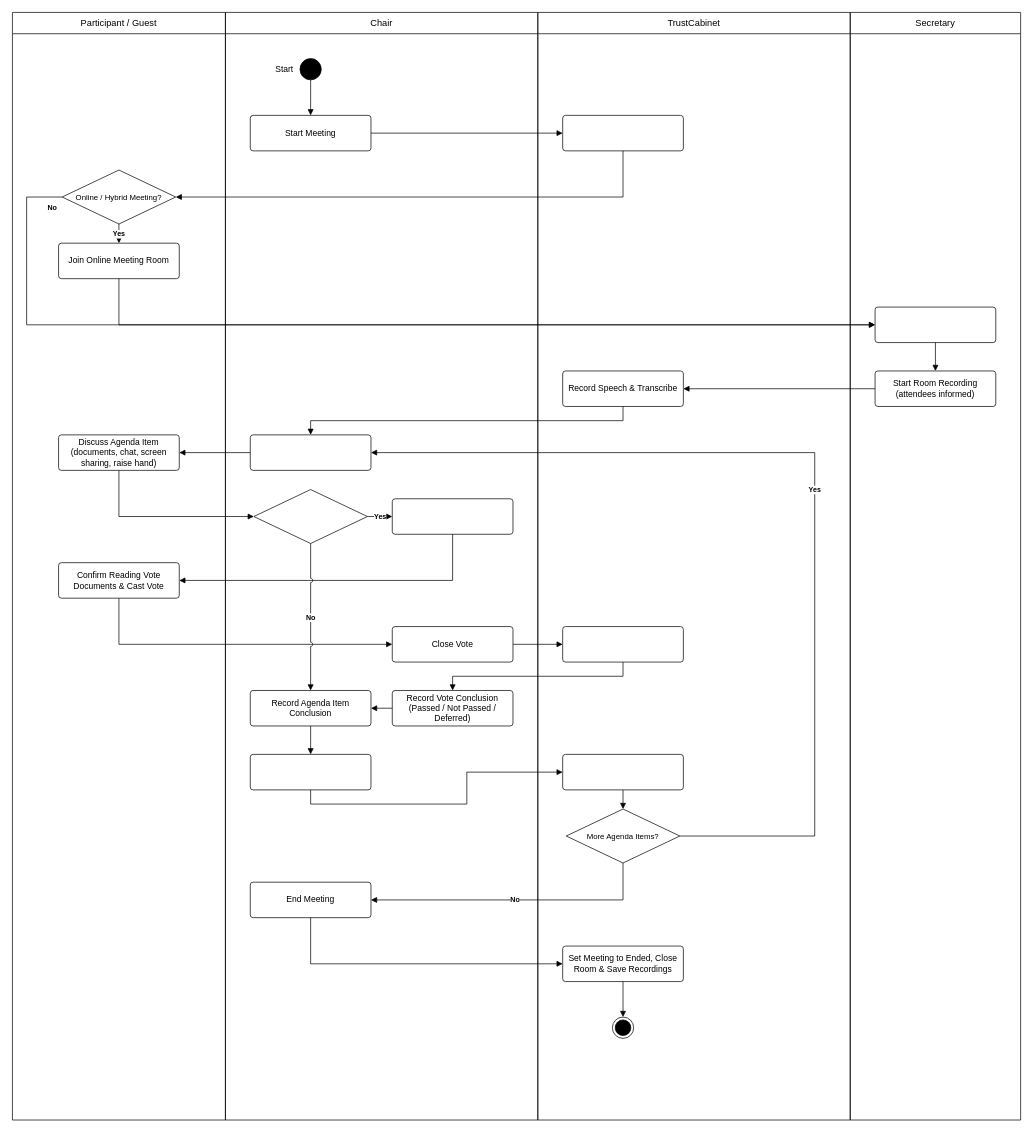
Some shapes in this 1033 by 1132 pixel diagram are drawn without their labels. The centre of each missing label's shape, as x and y in pixels:
Complete Agenda Item: (310,772)
End: (623,1027)
Open Vote: (452,516)
Record Official Attendance: (935,324)
Save Agenda Item Status & Actual Time: (622,772)
Set Meeting to InProgress & Notify Participants: (622,133)
Start Any Pending Agenda Item: (310,452)
Tally Votes & Show Result: (622,644)
Vote Needed?: (310,516)
